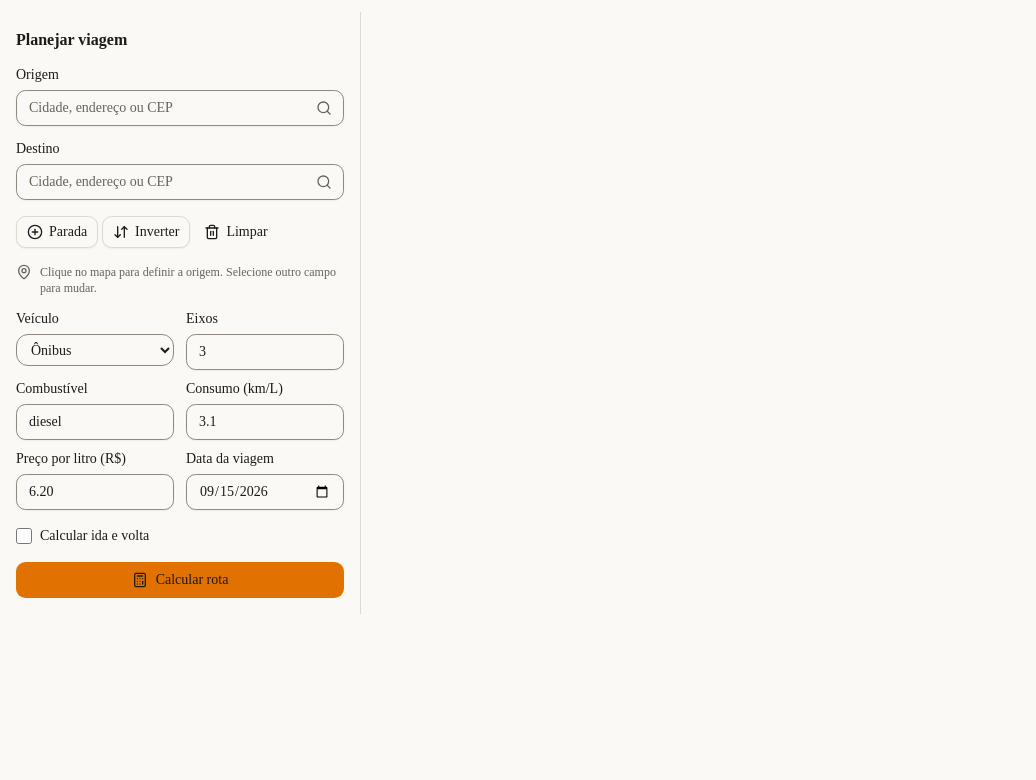
Test: keeps selected coordinates consistent when reversing and clearing the trip
Step 1. Type "Uberlan" into the dropdown labelled "Origem" → point(180, 108), box [16,90,344,126]
Wait 450 ms
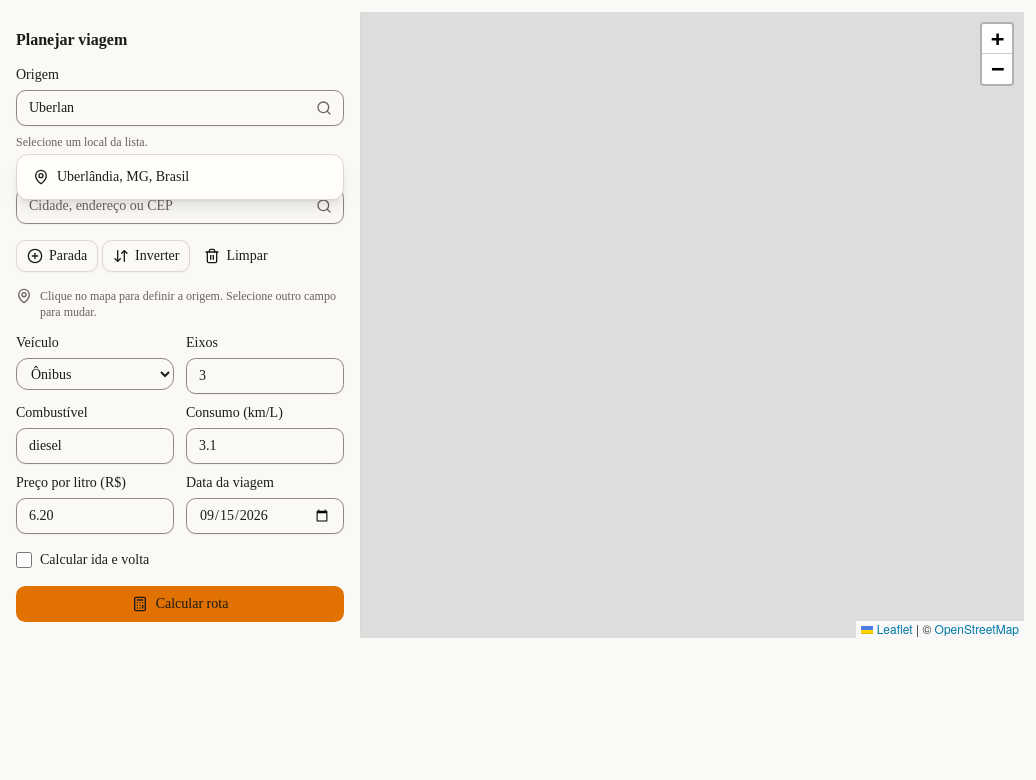
Step 2. Click the option "Uberlândia, MG, Brasil" → point(180, 177), box [21,159,339,195]
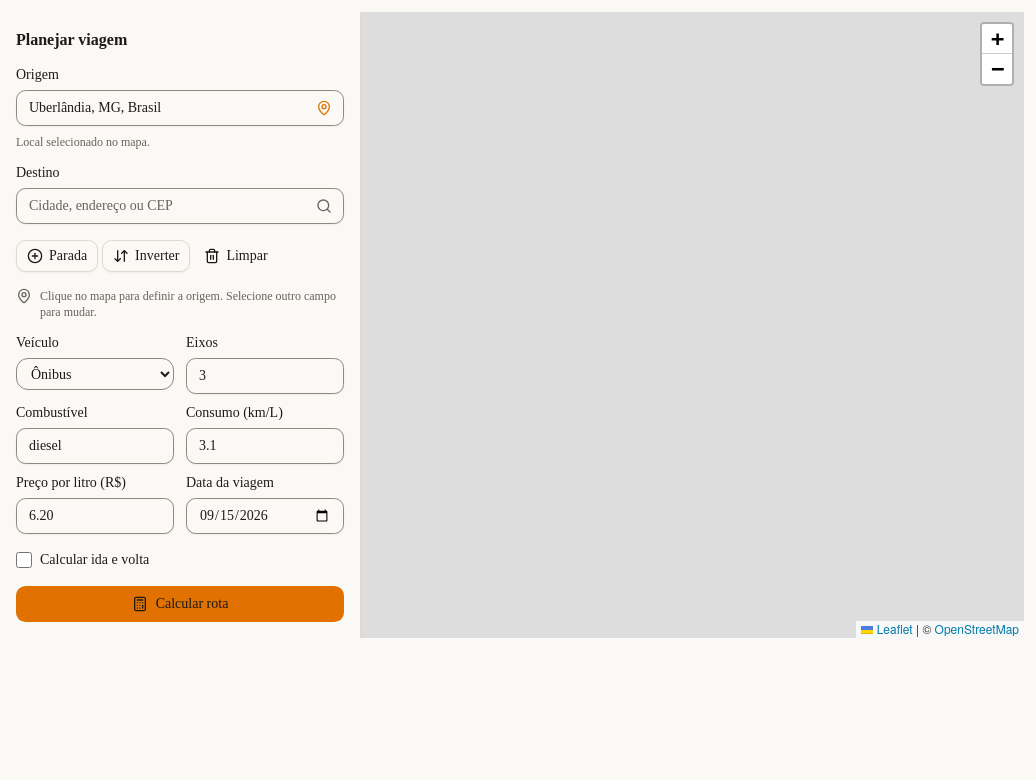
Step 3. Type "São Paulo" into the dropdown labelled "Destino" → point(180, 206), box [16,188,344,224]
Wait 450 ms
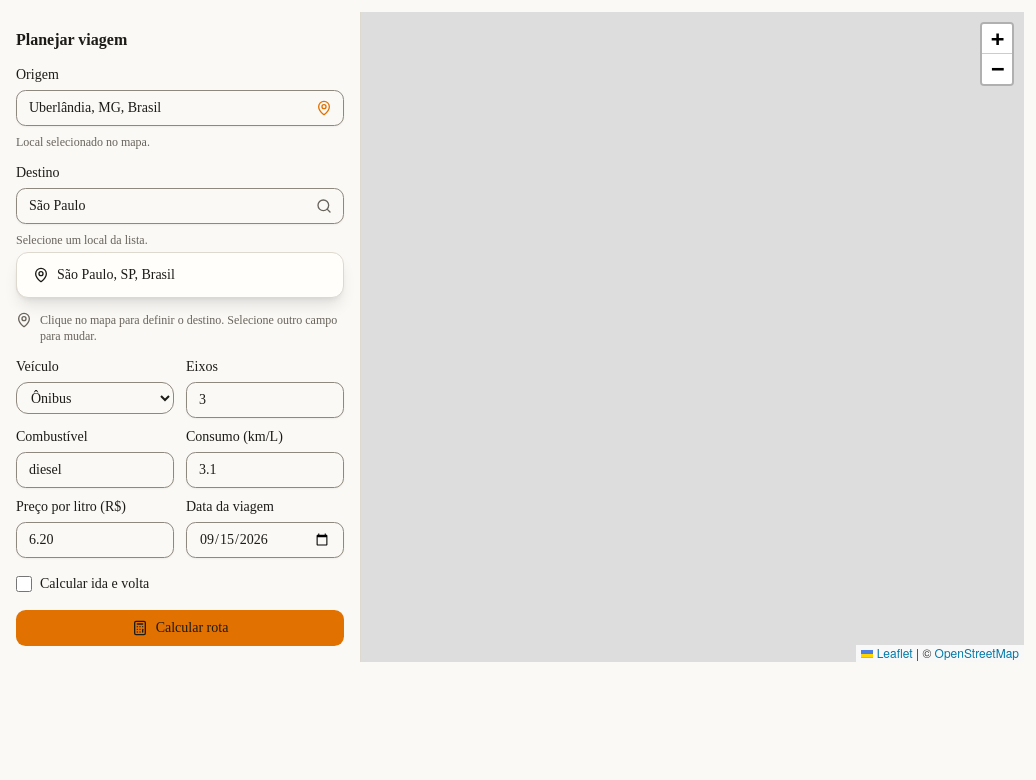
Step 4. Click the option "São Paulo, SP, Brasil" → point(116, 274), box [21,257,339,293]
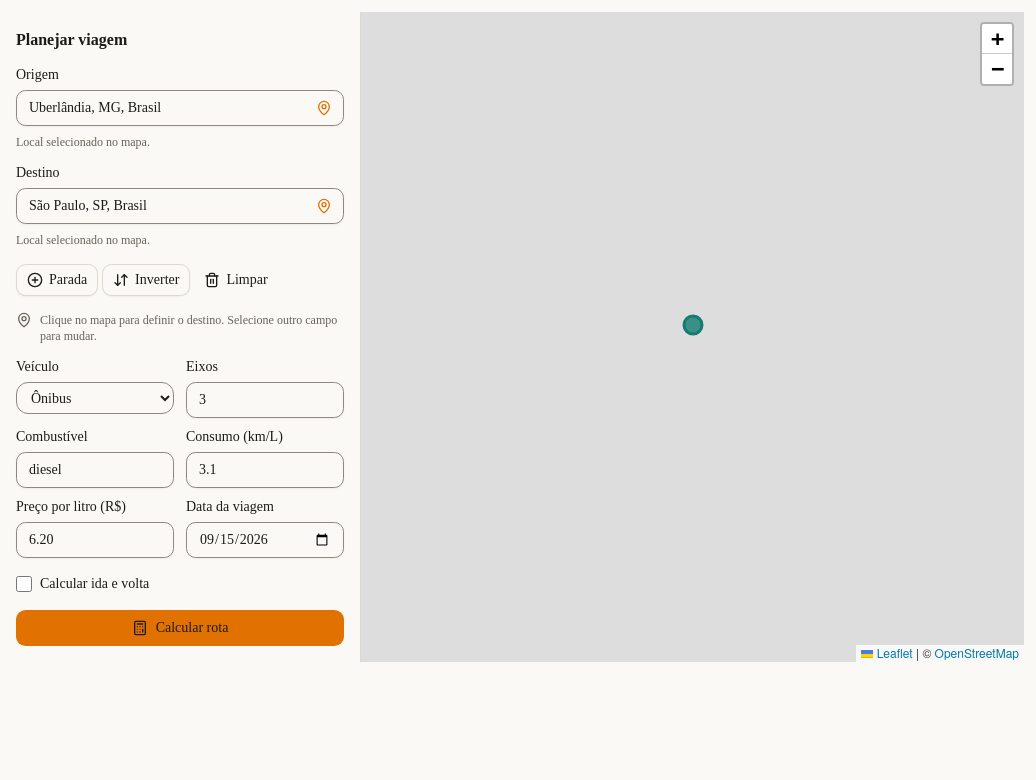
Step 5. Click the button "Inverter" → point(146, 280), box [102,264,190,296]
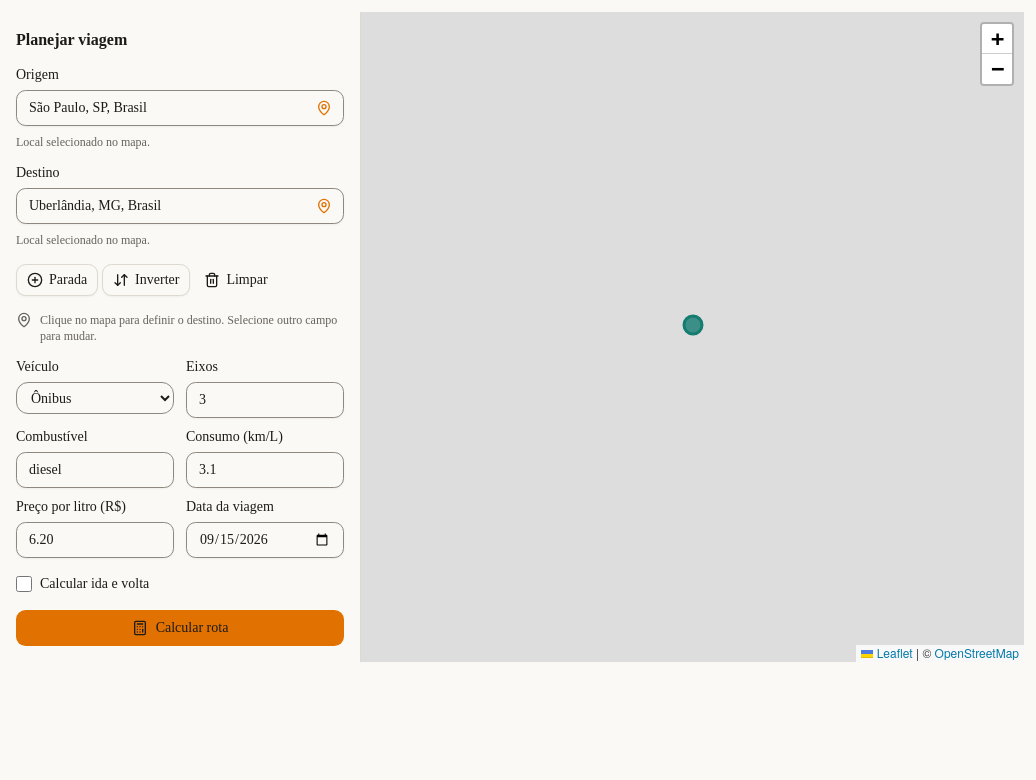
Expected: the dropdown labelled "Origem" holds "São Paulo, SP, Brasil", [16,90,344,126]
Expected: the dropdown labelled "Destino" holds "Uberlândia, MG, Brasil", [16,188,344,224]
Step 6. Click the button "Limpar" → point(236, 280), box [194,264,278,296]
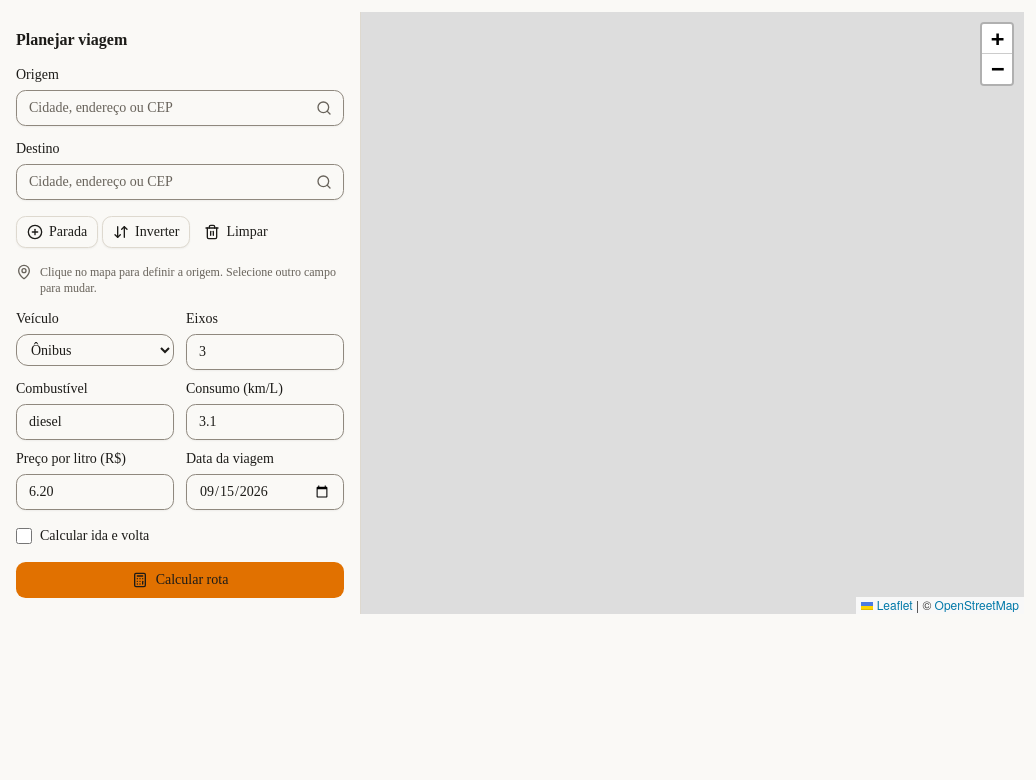
Expected: the dropdown labelled "Origem" is empty, [16,90,344,126]
Expected: the dropdown labelled "Destino" is empty, [16,164,344,200]
